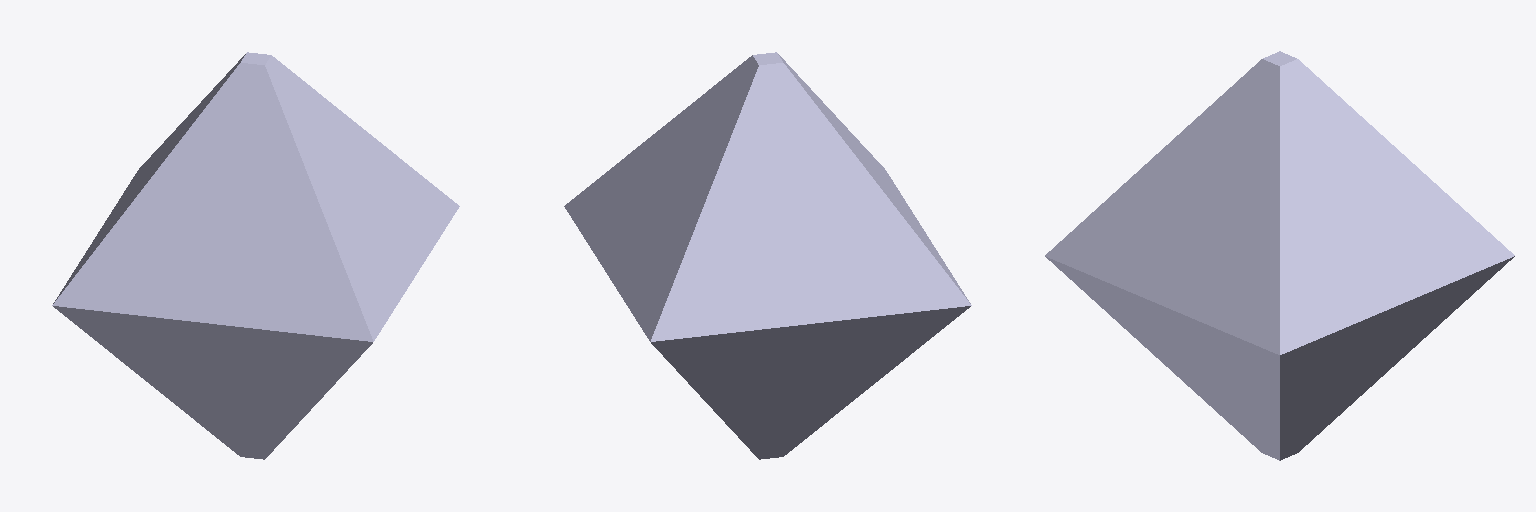
The model's file is chrysoberyl.obj.
The picture shows the model from 3 angles: view 1: azimuth 30°, elevation 25°; view 2: azimuth 150°, elevation 25°; view 3: azimuth 270°, elevation 25°; orthographic projection.
Size of the model in its own units: 1.73 by 1.6 by 1.73.